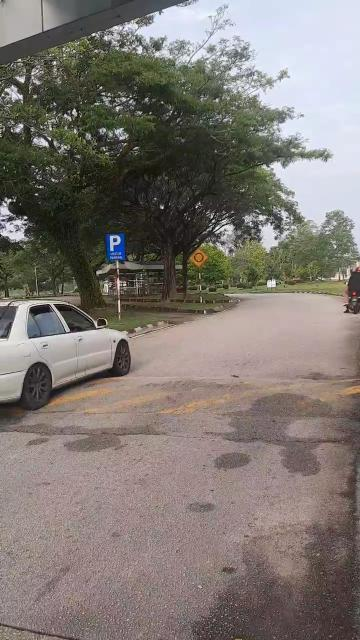car: (1, 298, 141, 411)
